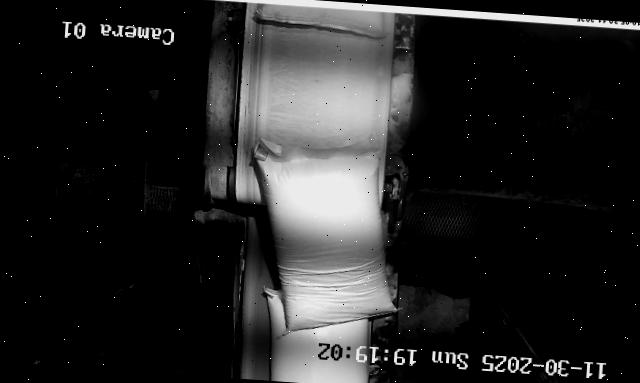bag: (238, 134, 410, 342), (255, 286, 377, 383), (252, 2, 384, 35)
